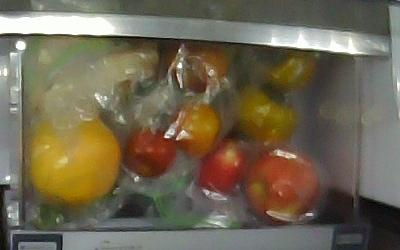apple_vinyl: (241, 149, 318, 221), (197, 137, 245, 189)
grapefruit_vinyl: (29, 115, 121, 203)
persimmon_vinyl: (227, 84, 300, 143), (236, 47, 316, 86)
prune_vinyl: (165, 43, 232, 92), (124, 125, 176, 178), (168, 103, 217, 158)
